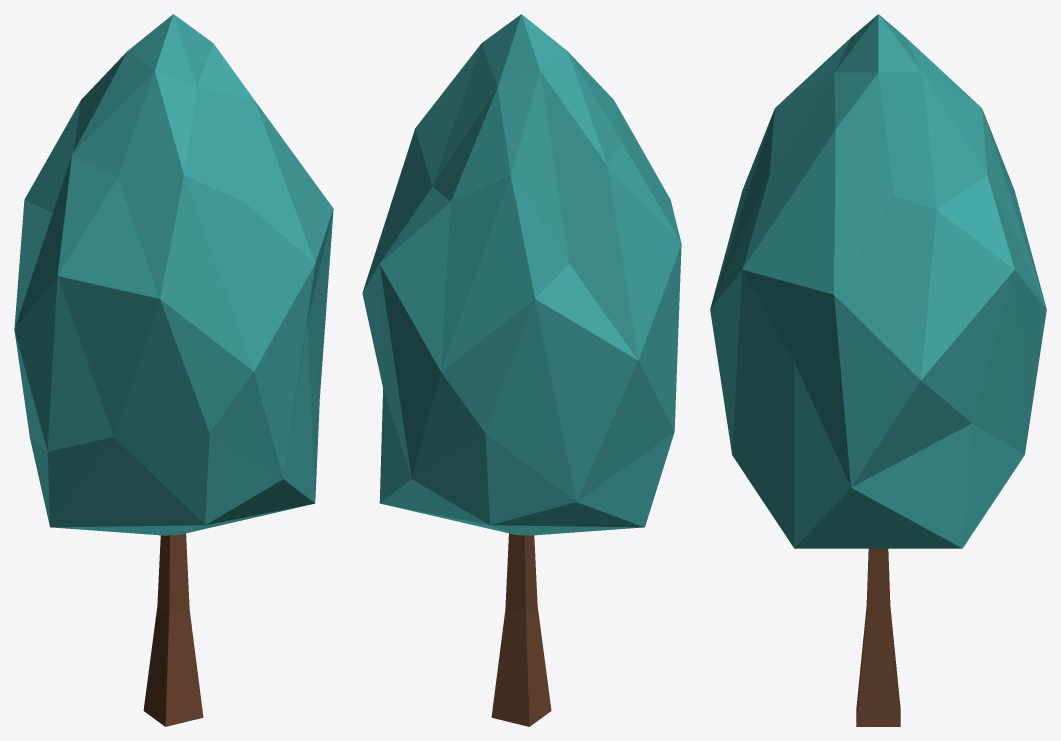
Rendered from Tree_40_Blue.fbx.
3 renders of one model, left to right at view 1: azimuth 30°, elevation 25°; view 2: azimuth 150°, elevation 25°; view 3: azimuth 270°, elevation 25°, orthographic.
Parts seen in each view (by area): view 1: Tree_40_Blue_Part_1, Tree_40_Blue_Part_2; view 2: Tree_40_Blue_Part_1, Tree_40_Blue_Part_2; view 3: Tree_40_Blue_Part_1, Tree_40_Blue_Part_2.
Boxes of the visible parts, <box> form: Tree_40_Blue_Part_1: <box>14,14,333,535</box>; Tree_40_Blue_Part_2: <box>143,533,203,726</box>; Tree_40_Blue_Part_1: <box>362,14,681,535</box>; Tree_40_Blue_Part_2: <box>491,533,551,726</box>; Tree_40_Blue_Part_1: <box>710,14,1046,548</box>; Tree_40_Blue_Part_2: <box>856,548,900,726</box>.
Size of the model in its own units: 331 by 798 by 346.
